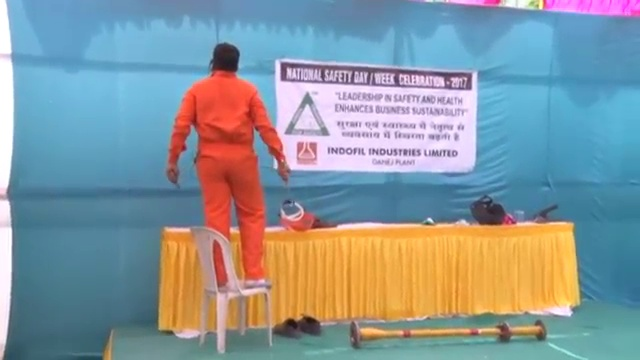helmet_off: (209, 42, 242, 76)
person: (164, 42, 289, 287)
